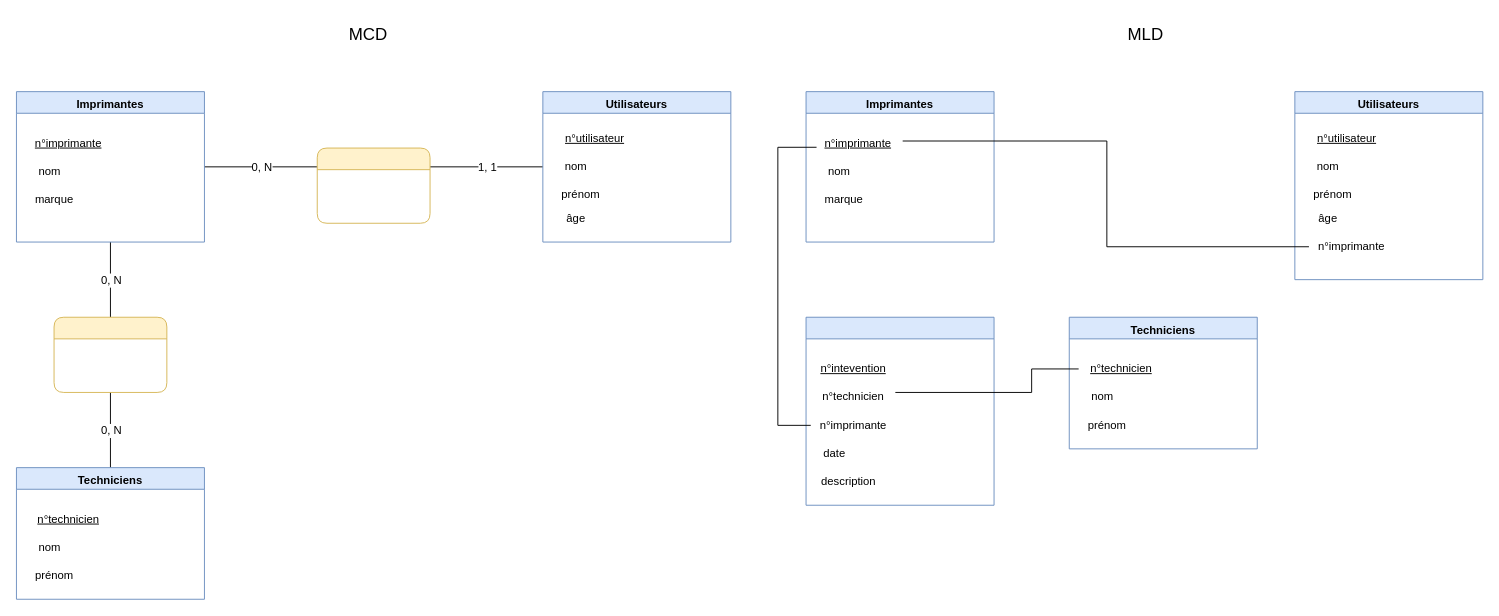
This 1499x616 diagram has some shape labels left out. Here are the shapes that lost their labels. From the top down, the box of each, then its label:
(316, 147, 430, 223): est utilisée par...
(53, 316, 167, 392): est réparée par...
(805, 316, 994, 505): Interventions
